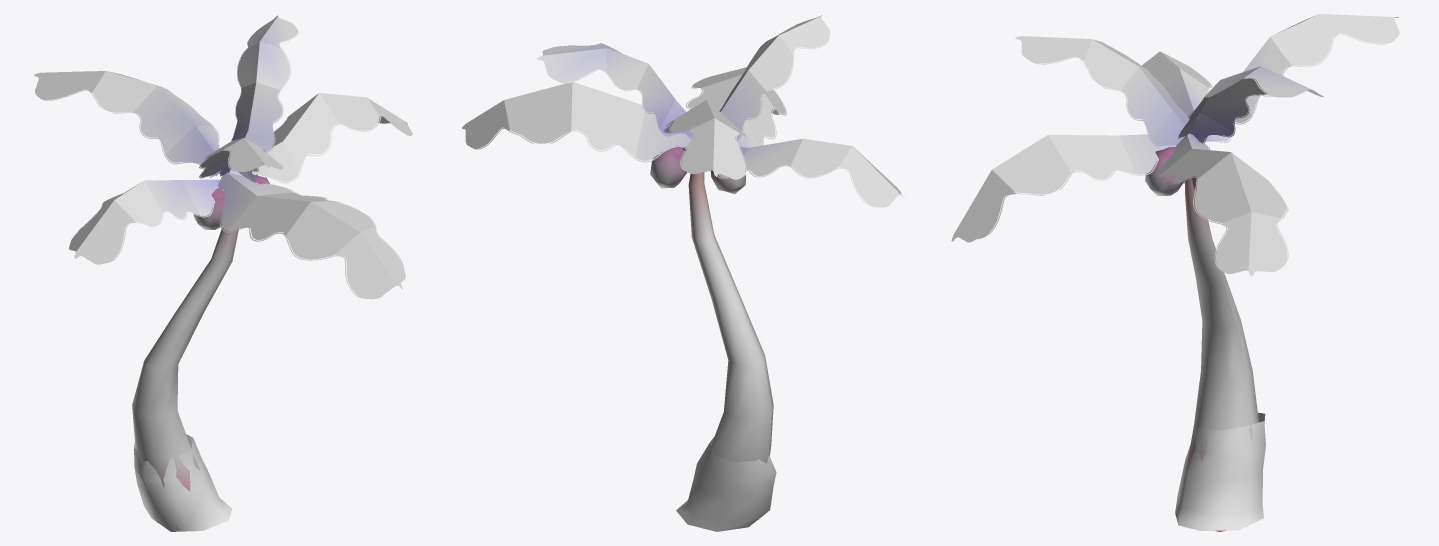
File: PalmTree1.fbx
3 views of the same model, side by side, from view 1: azimuth 30°, elevation 25°; view 2: azimuth 150°, elevation 25°; view 3: azimuth 270°, elevation 25° (orthographic). The views are drawn at different scales.
Visible parts, largest first — view 1: PalmLeaves1, PalmTree1, Skirt.002, Coconut; view 2: PalmLeaves1, PalmTree1, Skirt.002, Cube.023; view 3: PalmLeaves1, PalmTree1, Skirt.002, Cube.020.
Part boxes in pixels (bbox=[...]): PalmLeaves1: bbox=[34, 15, 412, 299]; PalmTree1: bbox=[132, 227, 238, 529]; Skirt.002: bbox=[134, 434, 231, 531]; Coconut: bbox=[193, 187, 225, 229]; PalmLeaves1: bbox=[462, 15, 904, 207]; PalmTree1: bbox=[688, 172, 773, 519]; Skirt.002: bbox=[676, 436, 776, 531]; Cube.023: bbox=[650, 145, 687, 188]; PalmLeaves1: bbox=[951, 14, 1399, 276]; PalmTree1: bbox=[1185, 178, 1258, 531]; Skirt.002: bbox=[1175, 412, 1265, 530]; Cube.020: bbox=[1145, 147, 1184, 195].
Size of the model in its own units: 1253 by 1362 by 1194.
